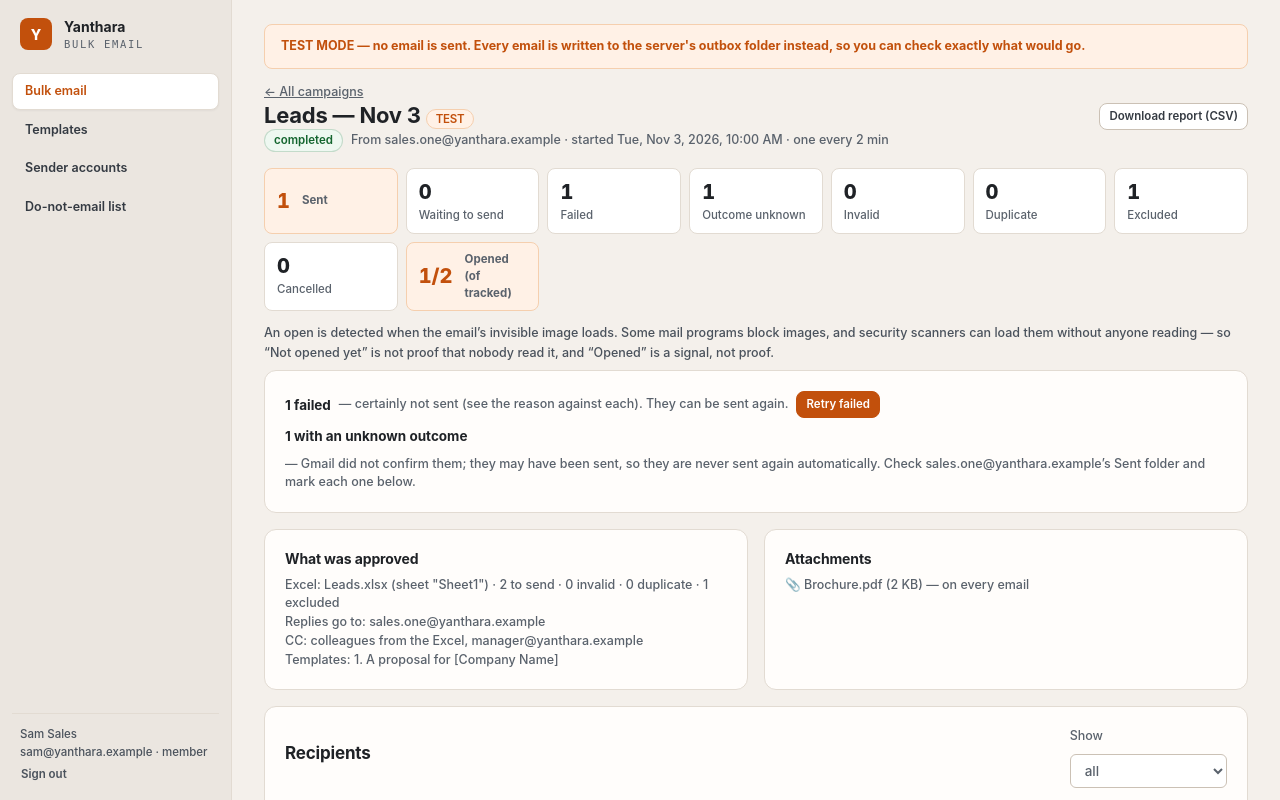
Test: opens on a campaign › shows who opened and who has not opened yet, with filters; a campaign without tracking says so
The image size is (1280, 800).
Expected: the navigation bar named "Main" is shown, x1=12 y1=73 x2=219 y2=226
Expected: the text "1/2" is shown, x1=419 y1=261 x2=452 y2=291
Select "not opened" in the dropdown named "Filter recipients" at (1148, 771), box x1=1070 y1=754 x2=1227 y2=788
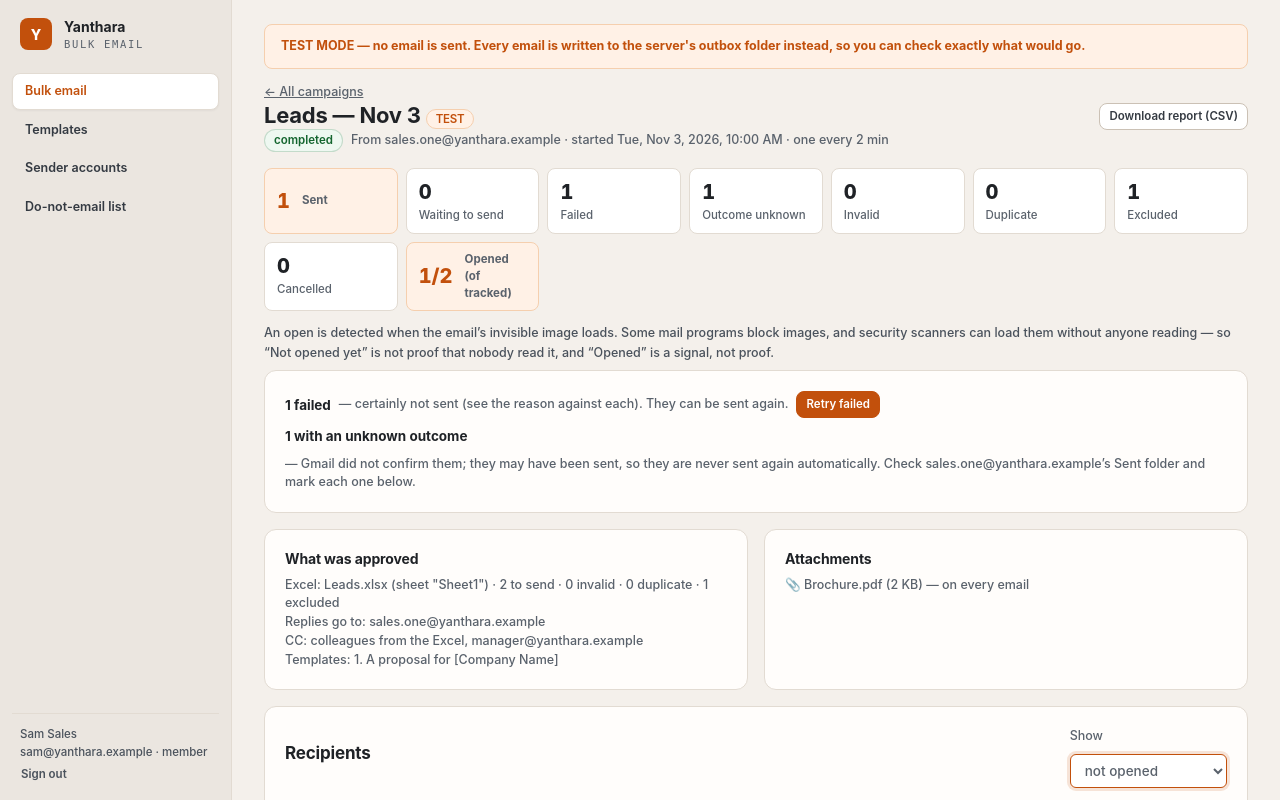
Expected: the text "Alpha Industries" is not shown
Select "opened" in the dropdown named "Filter recipients" at (1148, 771), box x1=1070 y1=754 x2=1227 y2=788
(page scrolled)
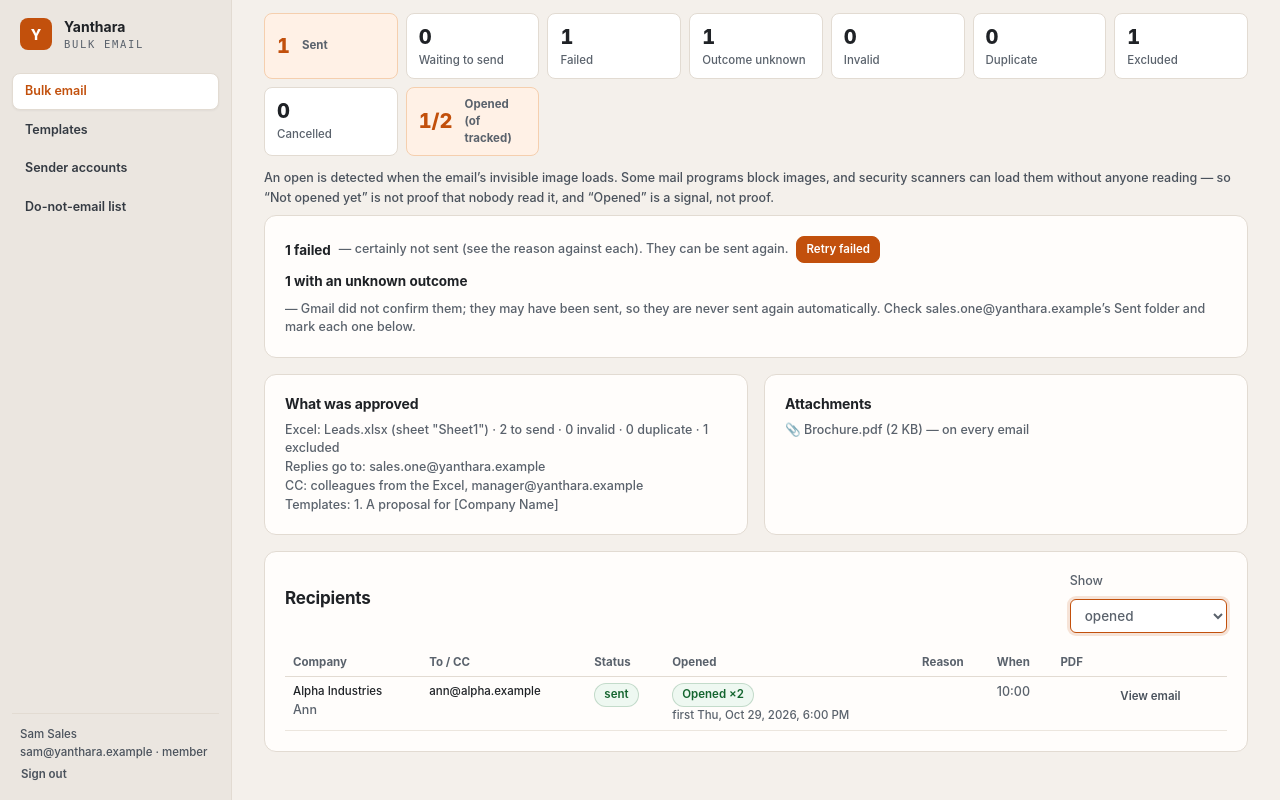
Now the text "Alpha Industries" is shown, box x1=293 y1=684 x2=382 y2=698
